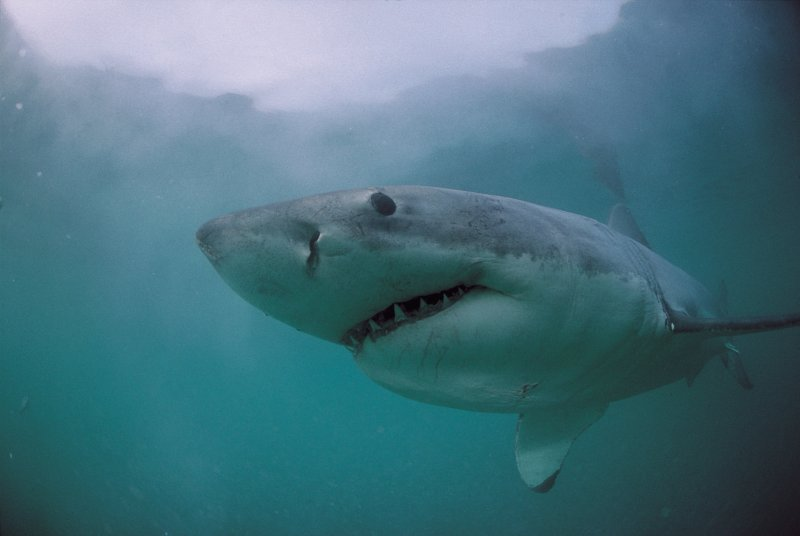Carcharodon_carcharias: (167, 146, 796, 509)
